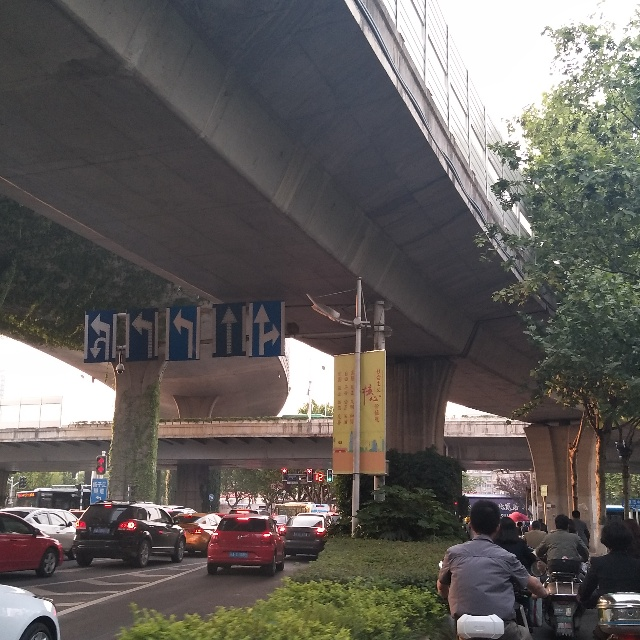left: (165, 306, 198, 361), (127, 309, 158, 363)
straight: (218, 304, 243, 354)
